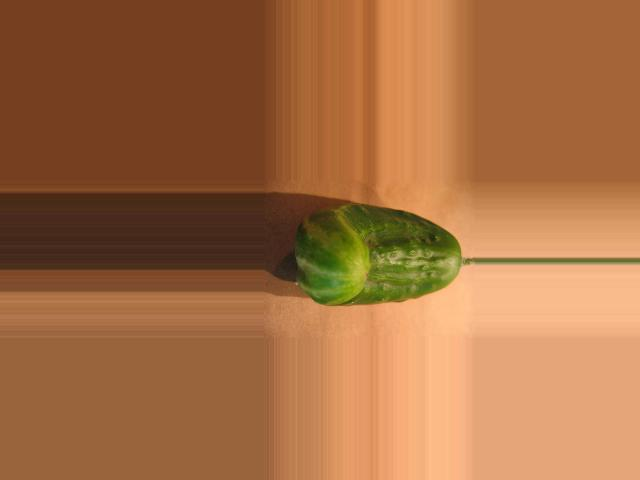cucumber: (295, 204, 462, 307)
